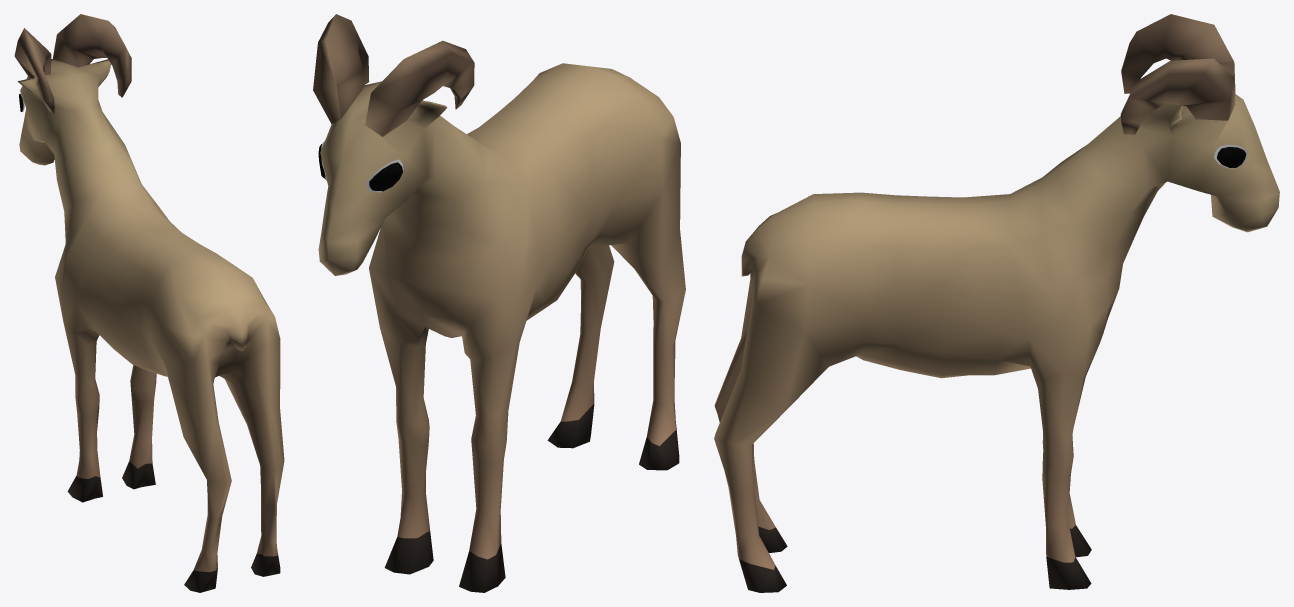
Rendered from BighornSheep2.min.glb.
3 renders of one model, left to right at view 1: azimuth 30°, elevation 25°; view 2: azimuth 150°, elevation 25°; view 3: azimuth 270°, elevation 25°, orthographic. The views are drawn at different scales.
Visible parts, largest first — view 1: BighornSheep2; view 2: BighornSheep2; view 3: BighornSheep2.
Part boxes in pixels (x1,y1,x2,y2): BighornSheep2: [14, 14, 284, 592]; BighornSheep2: [313, 14, 685, 592]; BighornSheep2: [714, 14, 1279, 592].
Size of the model in its own units: 0.3454 by 1.36 by 1.32.
